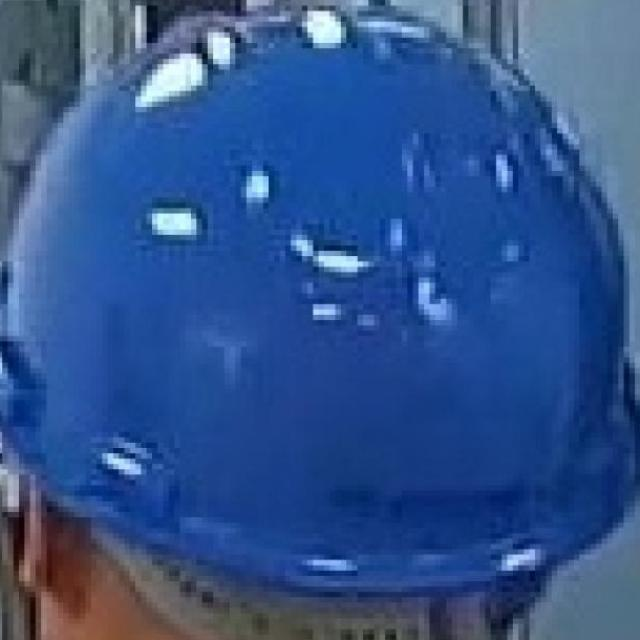helmet: (0, 6, 640, 606)
